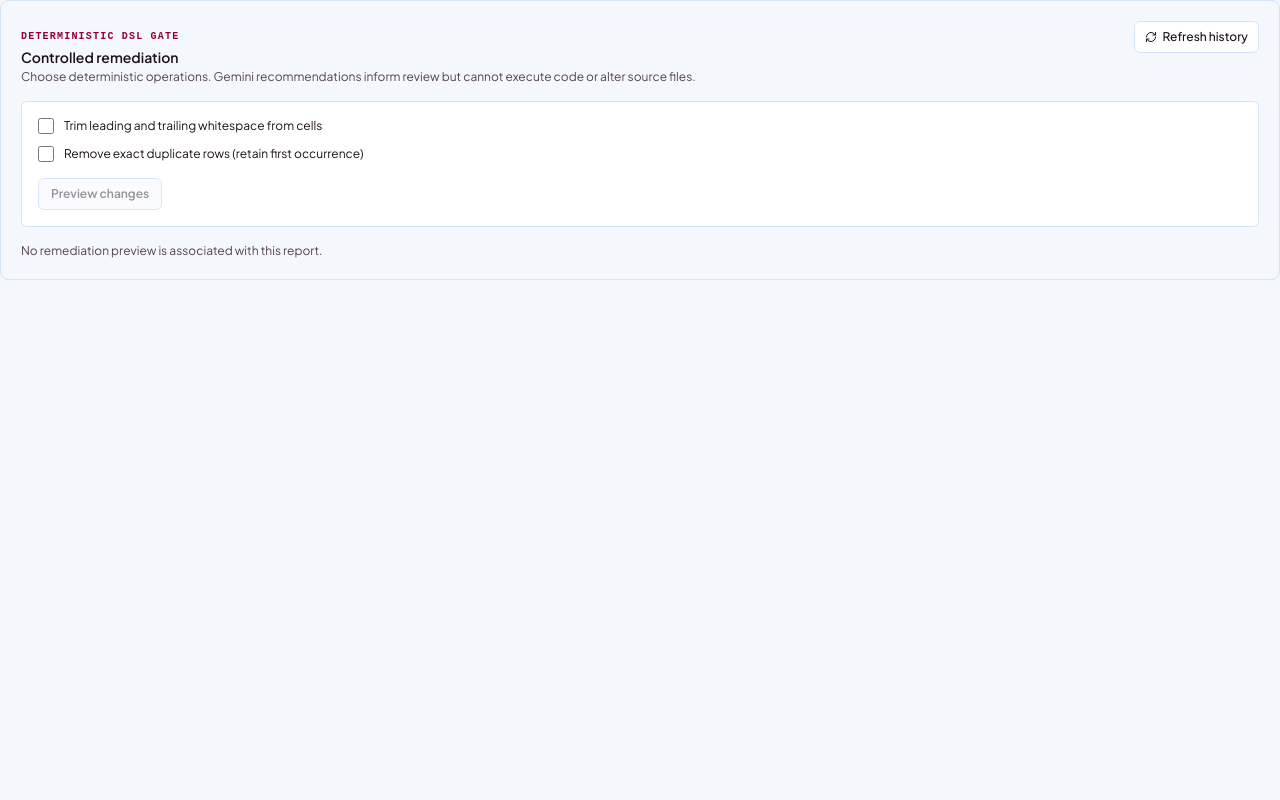
Test: RemediationWorkflowPanel › requires preview and a second explicit approval before creating data
Expected: the button "Approve and create derived dataset" is not shown
Click the checkbox labelled "Trim leading and trailing whitespace from cells".
click(46, 126)  # box [38,118,54,134]
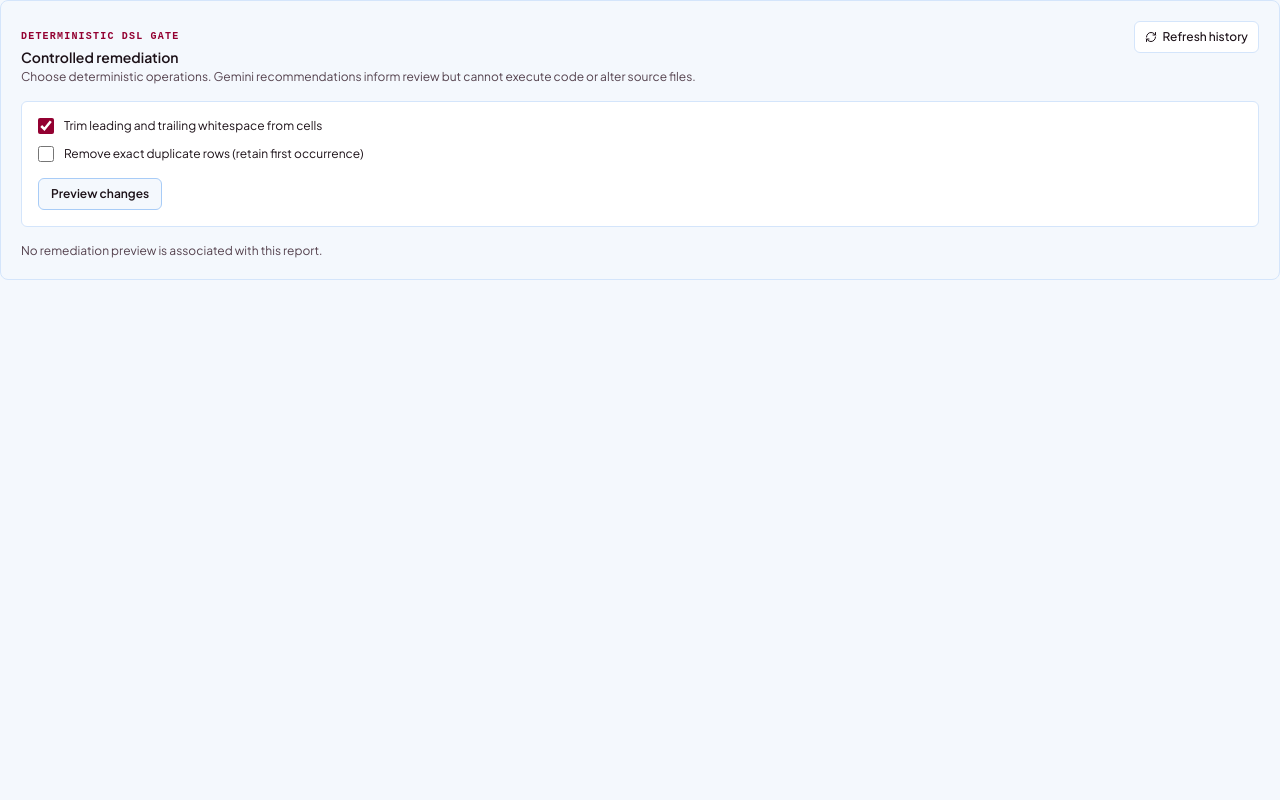
Click the button "Preview changes".
click(100, 194)  # box [38,178,162,210]
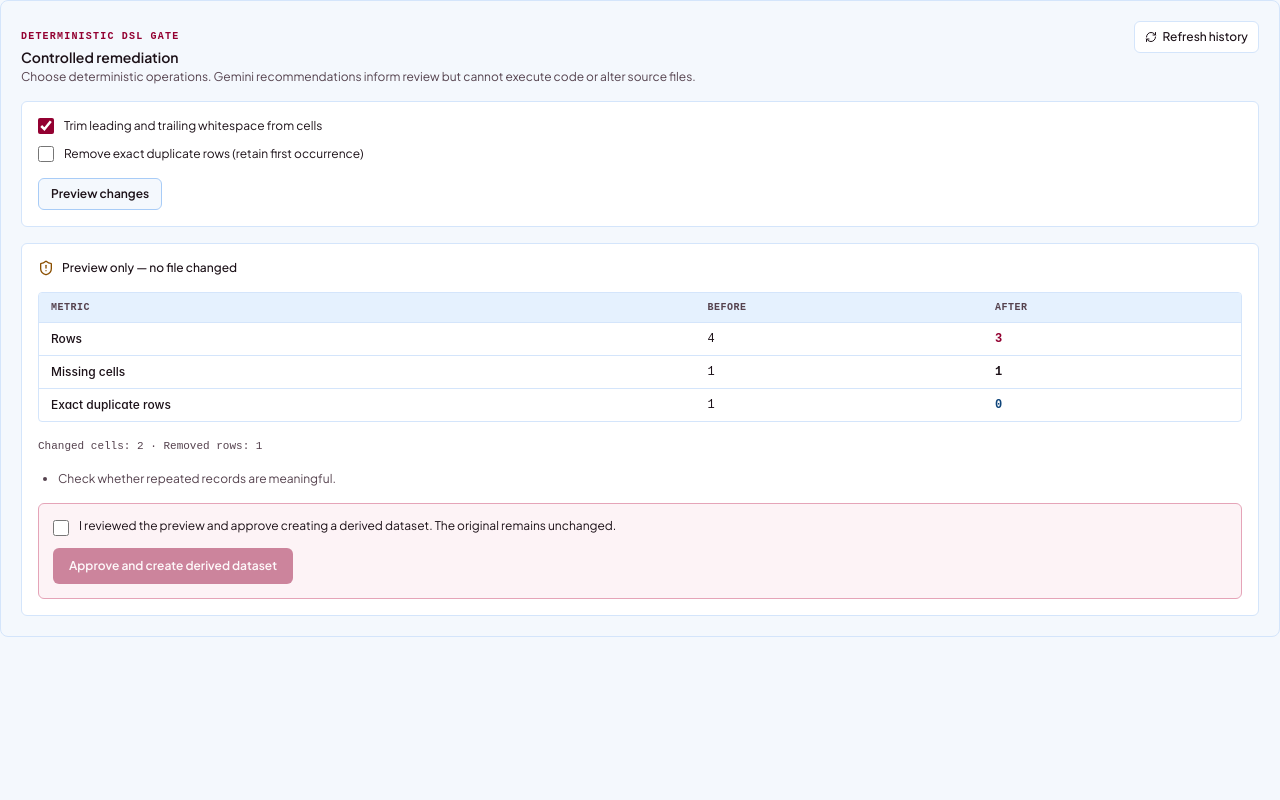
Result: the text "Preview only — no file changed" is shown at [62,260,237,276]
Result: the button "Approve and create derived dataset" is disabled at [53,548,293,584]
Click the checkbox labelled "I reviewed the preview".
click(61, 528)  # box [53,520,69,536]
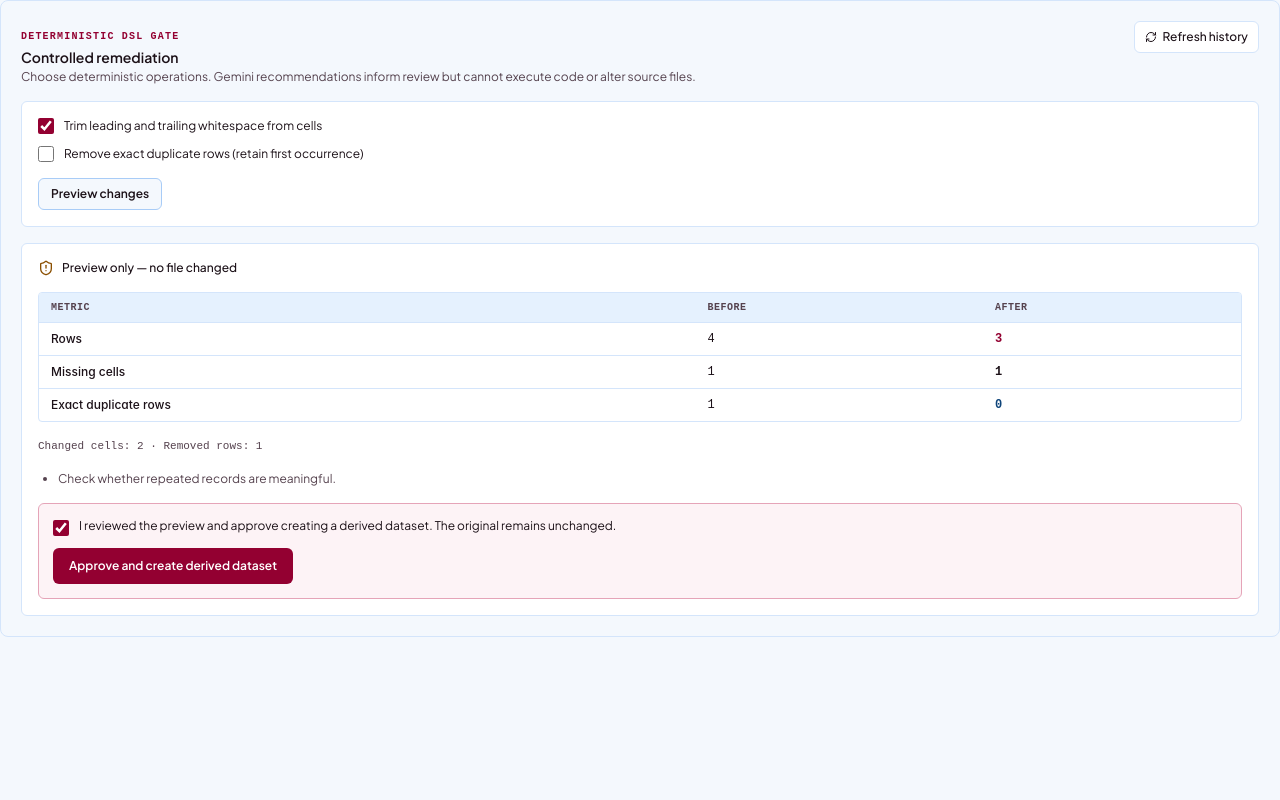
Result: the button "Approve and create derived dataset" is enabled
Click the button "Approve and create derived dataset".
click(173, 566)  # box [53,548,293,584]
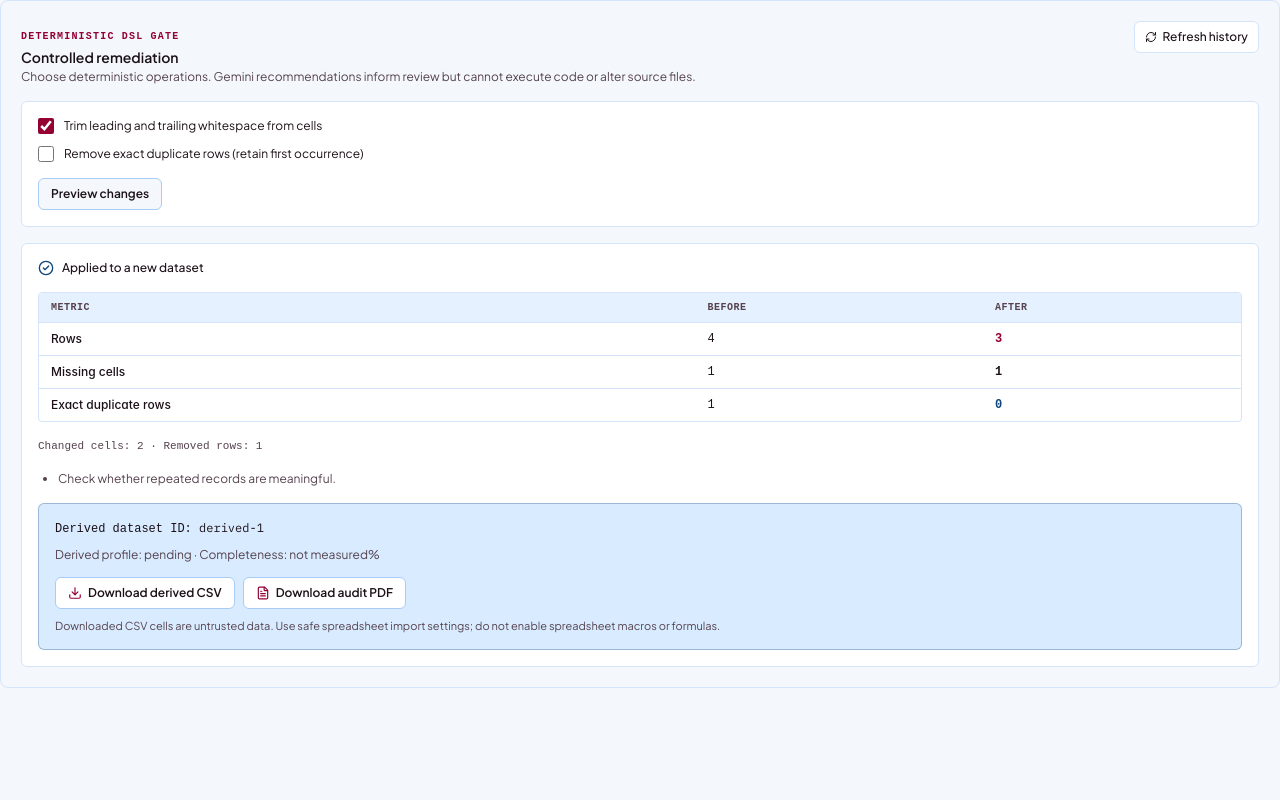
Result: the text "Download derived CSV" is shown at [88,585,222,601]
Result: the text "Download audit PDF" is shown at [276,585,393,601]
